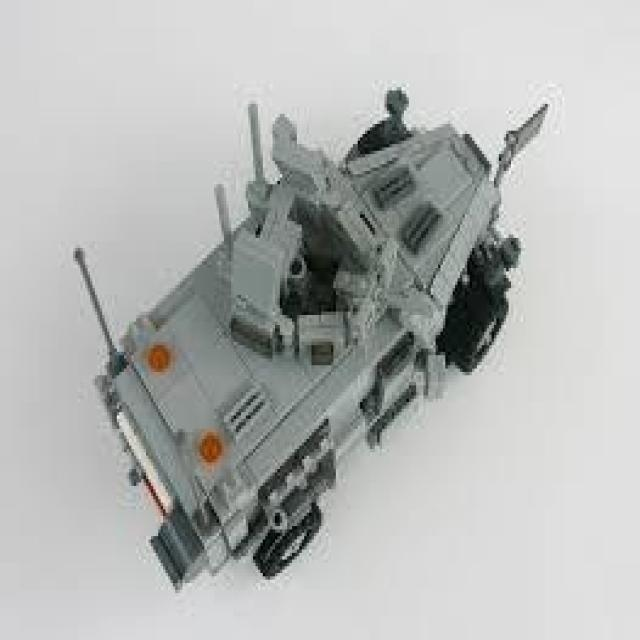Tanks: (56, 76, 577, 572)
